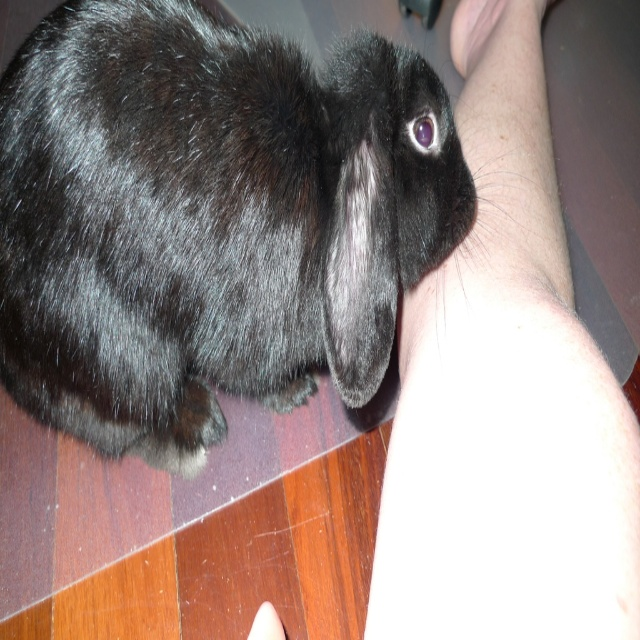Rabbit: (0, 0, 558, 480)
